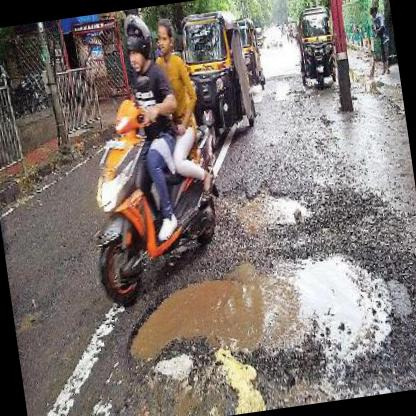pothole: (114, 238, 401, 388), (230, 174, 316, 236)
